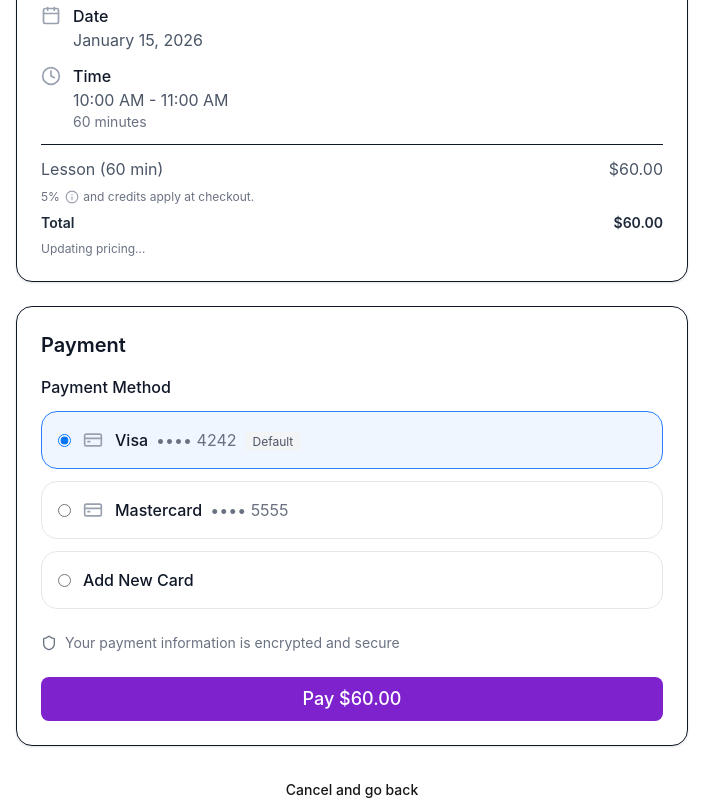
Test: CheckoutFlow › Payment Processing › handles payment error for saved card
(page scrolled)
Expected: the text "Visa" is shown, [115,430,148,450]
Click the button "Pay $60.00". click: (352, 699)
box: [41,677,663,721]
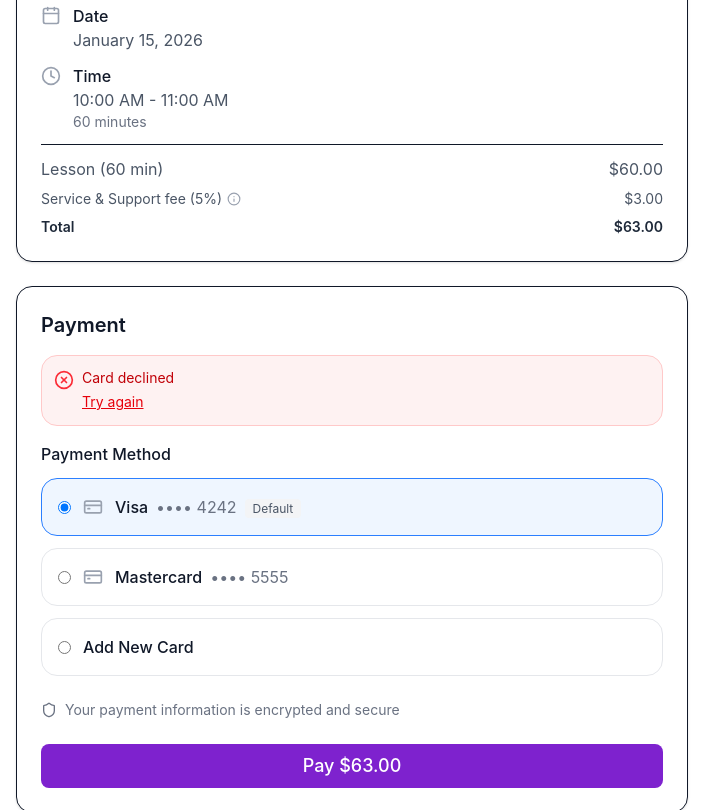
Now the text "Card declined" is shown, box [82,369,174,386]
